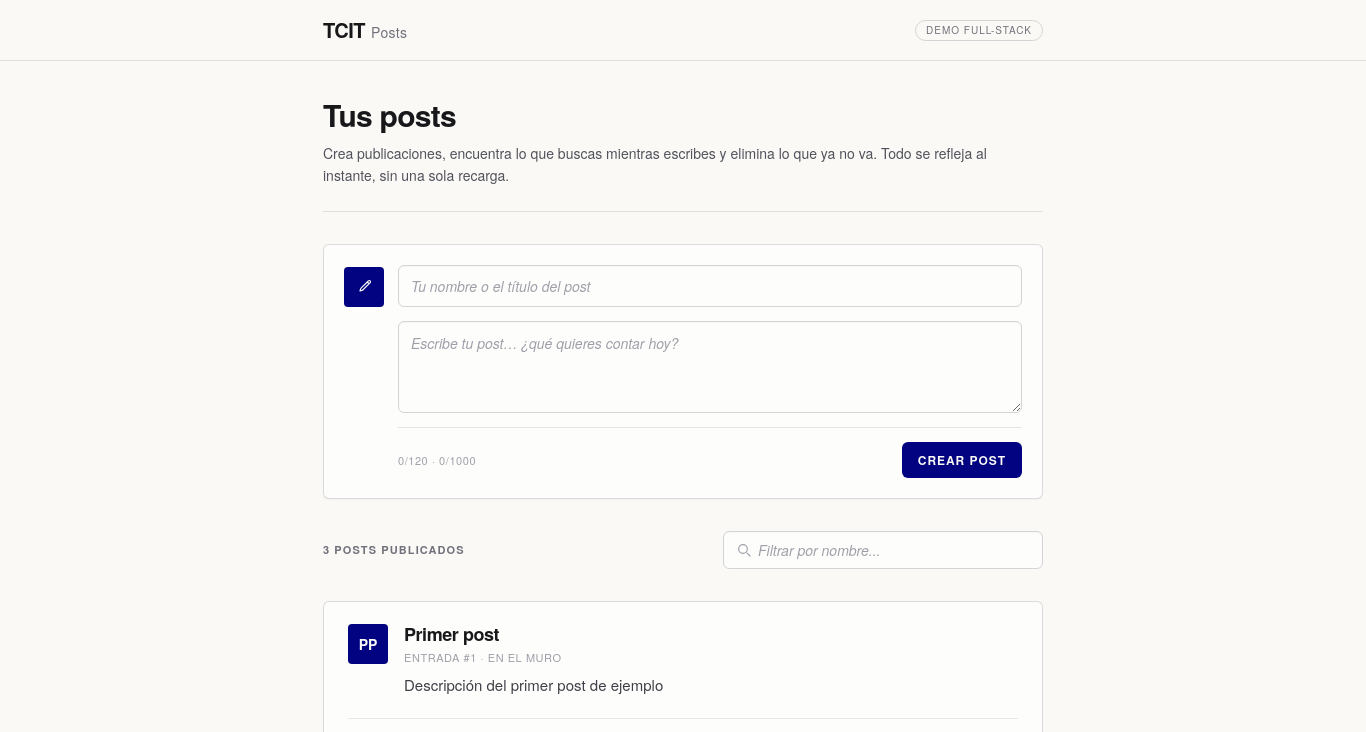
Test: PostsView (integración) › limpia el filtro con el botón
Expected: the heading "Primer post" is shown, [404,621,499,647]
Type "zzzzz" into the search field with placeholder "Filtrar por nombre...".
click(842, 550); type("zzzzz")  # box [758,536,927,564]
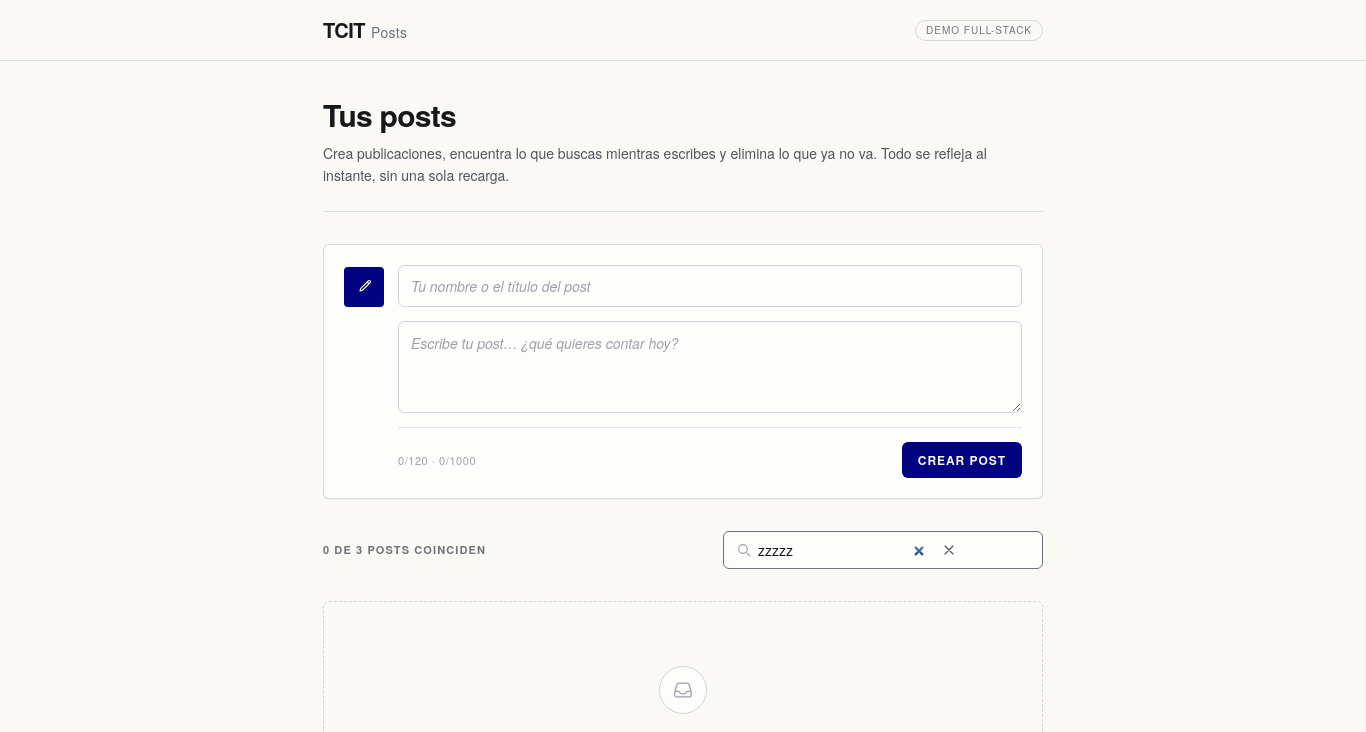
Click the button named "Limpiar filtro".
click(949, 550)  # box [933,538,965,562]
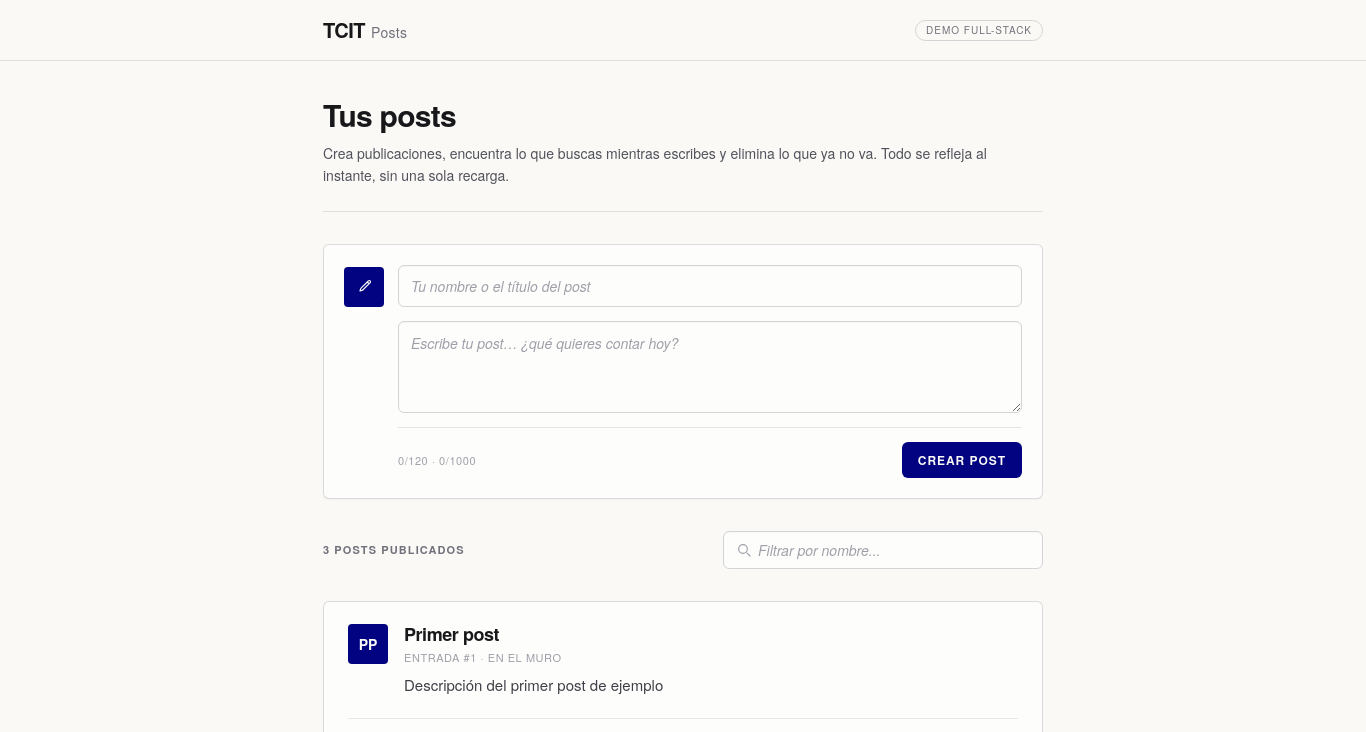
Expected: the heading "Primer post" is shown, [404,621,499,647]
